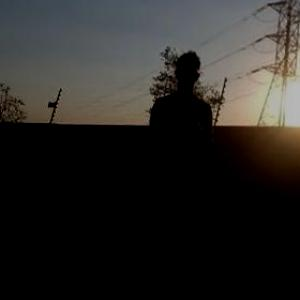follow: (126, 43, 214, 283)
